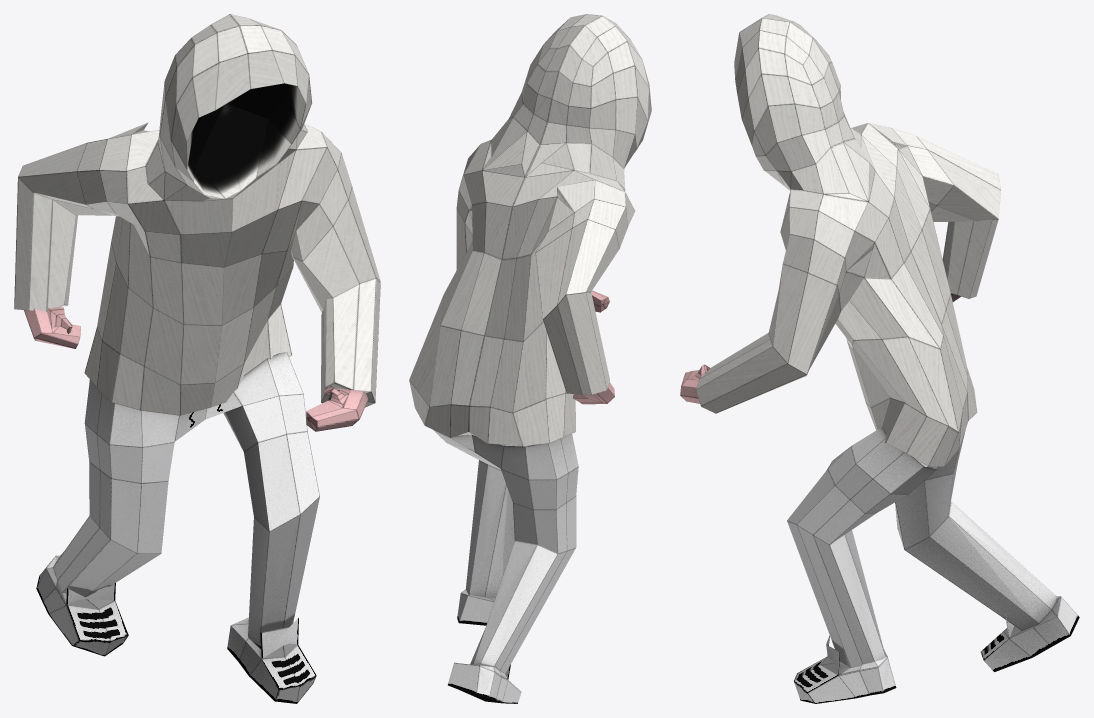
Rendered from Shadowmanv_000014.obj.
3 renders of one model, left to right at view 1: azimuth 30°, elevation 25°; view 2: azimuth 150°, elevation 25°; view 3: azimuth 270°, elevation 25°, orthographic. The views are drawn at different scales.
Visible parts, largest first — view 1: Cube.000; view 2: Cube.000; view 3: Cube.000.
Part boxes in pixels (<box>): Cube.000: <box>14,14,380,703</box>; Cube.000: <box>409,14,651,703</box>; Cube.000: <box>680,14,1079,703</box>.
Bounding box in the file's own units: 4.33 × 11.02 × 6.09.
